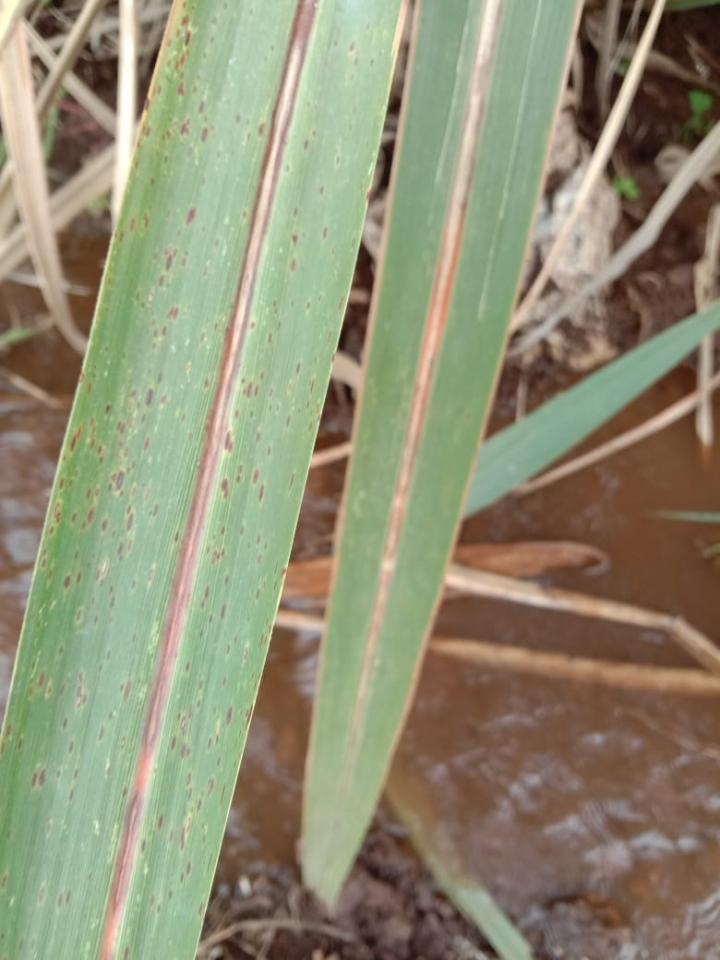RedRot: (98, 0, 318, 959), (353, 61, 490, 721)
Rust: (0, 0, 269, 959), (114, 124, 351, 959), (346, 38, 379, 71)
